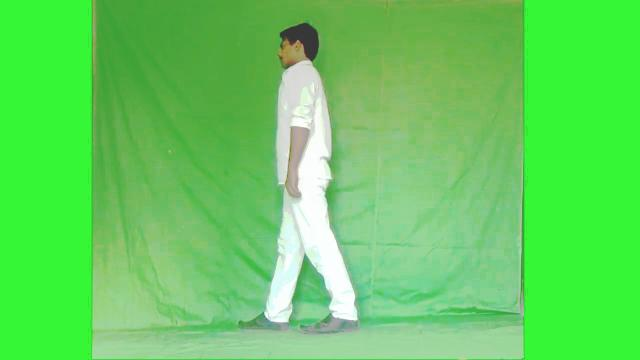berjalan: (242, 16, 364, 340)
